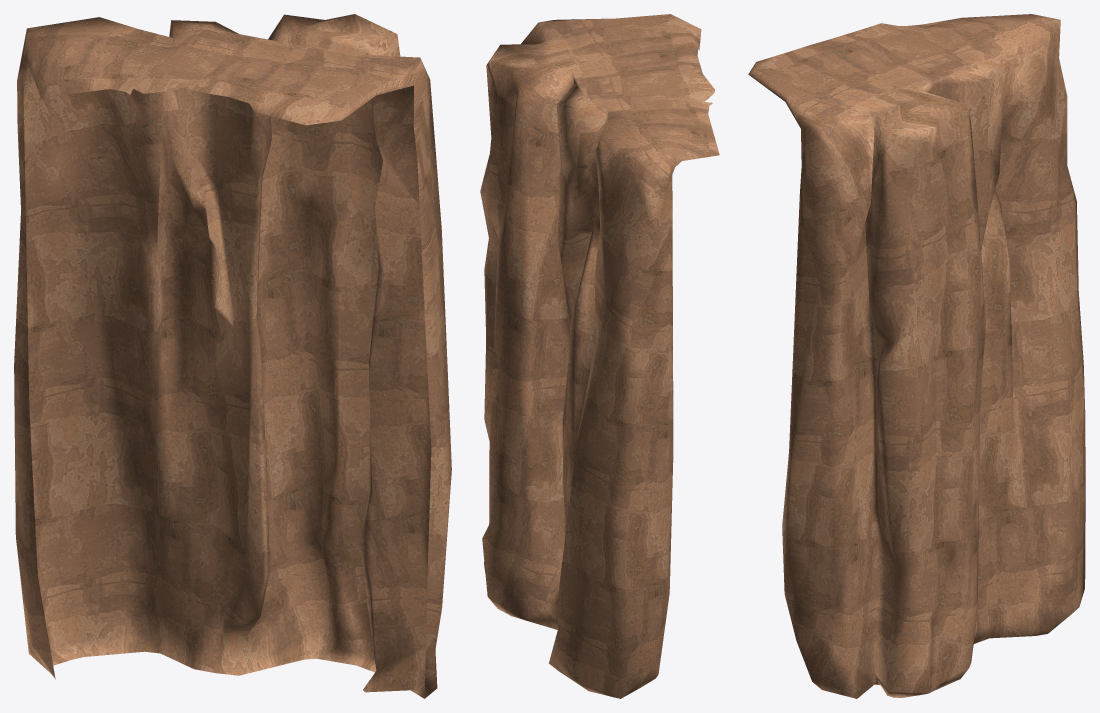
Rendered from Ob_RockCliff02.fbx.
3 views of the same model, side by side, from view 1: azimuth 30°, elevation 25°; view 2: azimuth 150°, elevation 25°; view 3: azimuth 270°, elevation 25° (orthographic). The views are drawn at different scales.
Visible parts, largest first — view 1: Ob_RockCliff02; view 2: Ob_RockCliff02; view 3: Ob_RockCliff02.
Boxes of the visible parts, x1=… form: Ob_RockCliff02: x1=14, y1=14, x2=451, y2=698; Ob_RockCliff02: x1=480, y1=14, x2=719, y2=698; Ob_RockCliff02: x1=748, y1=14, x2=1085, y2=698.
Bounding box in the file's own units: 38042 × 74685 × 39274.
